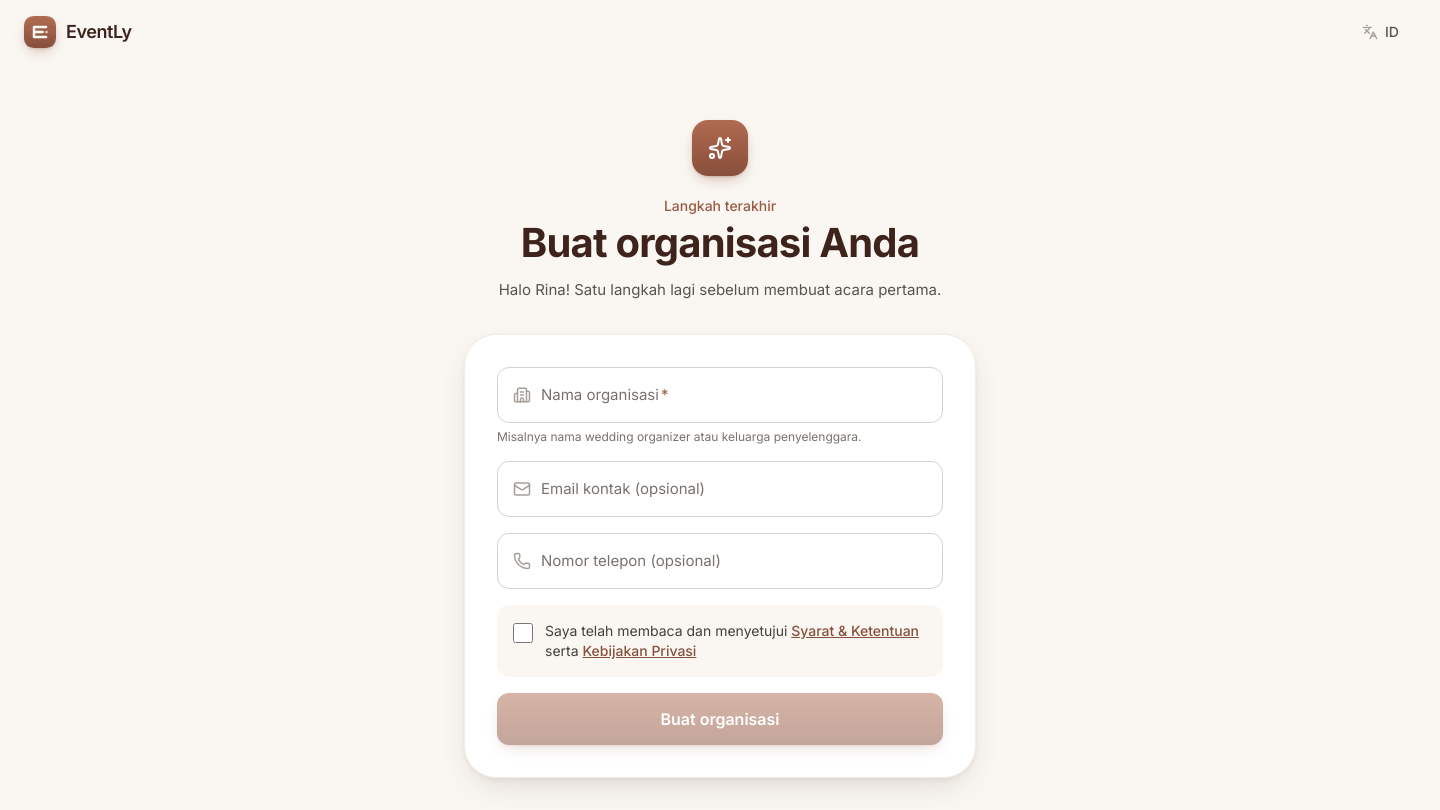
Test case: onboarding › requires accepting the terms, then creates the organization and opens the dashboard
The width and height of the screenshot is (1440, 810).
Type "Santoso WO" into the field labelled "Nama organisasi". click: (720, 395)
box: 497,367 -> 943,423
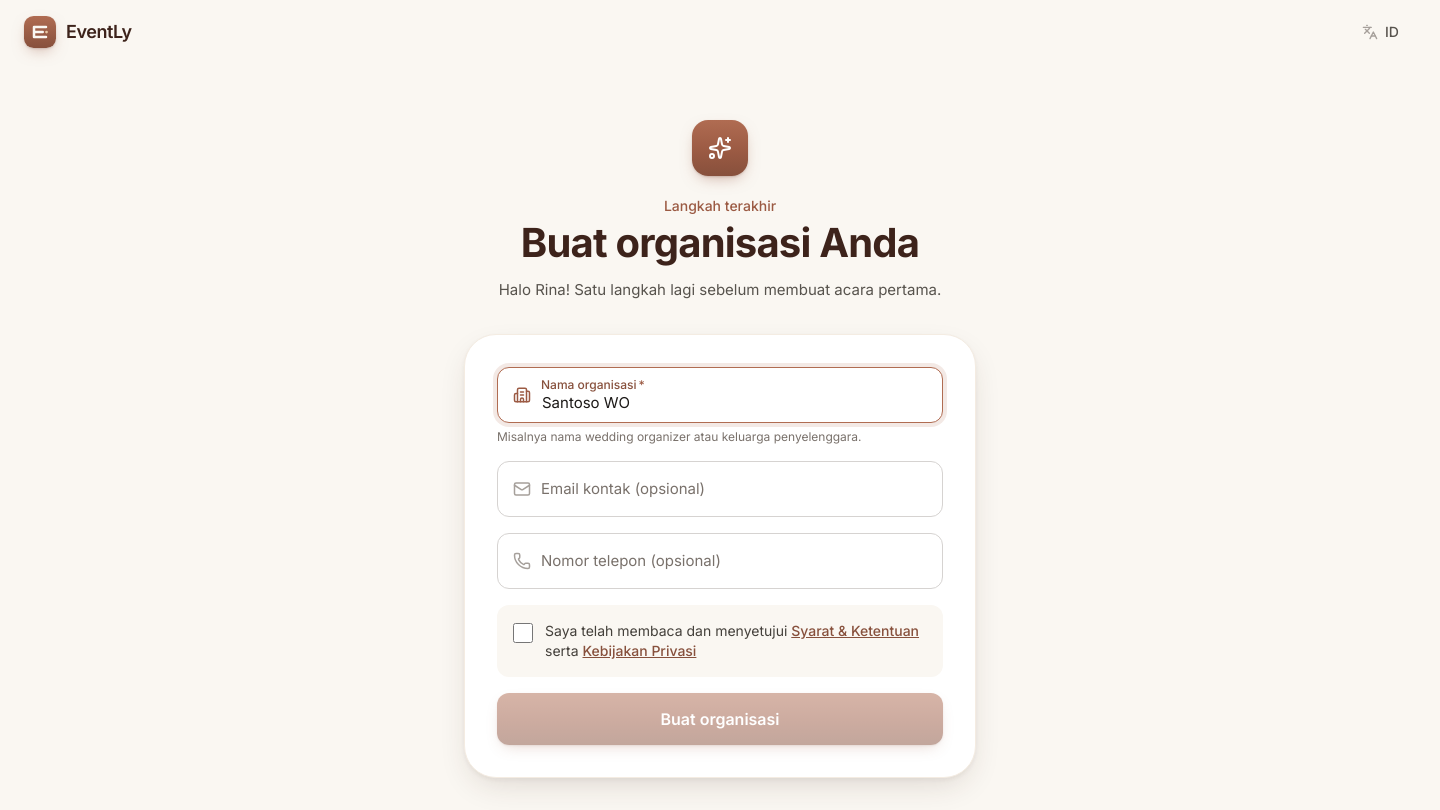
Expected: the button "Buat organisasi" is disabled, 497,693 -> 943,745
Click the checkbox. click: (523, 633)
box: 513,623 -> 533,643
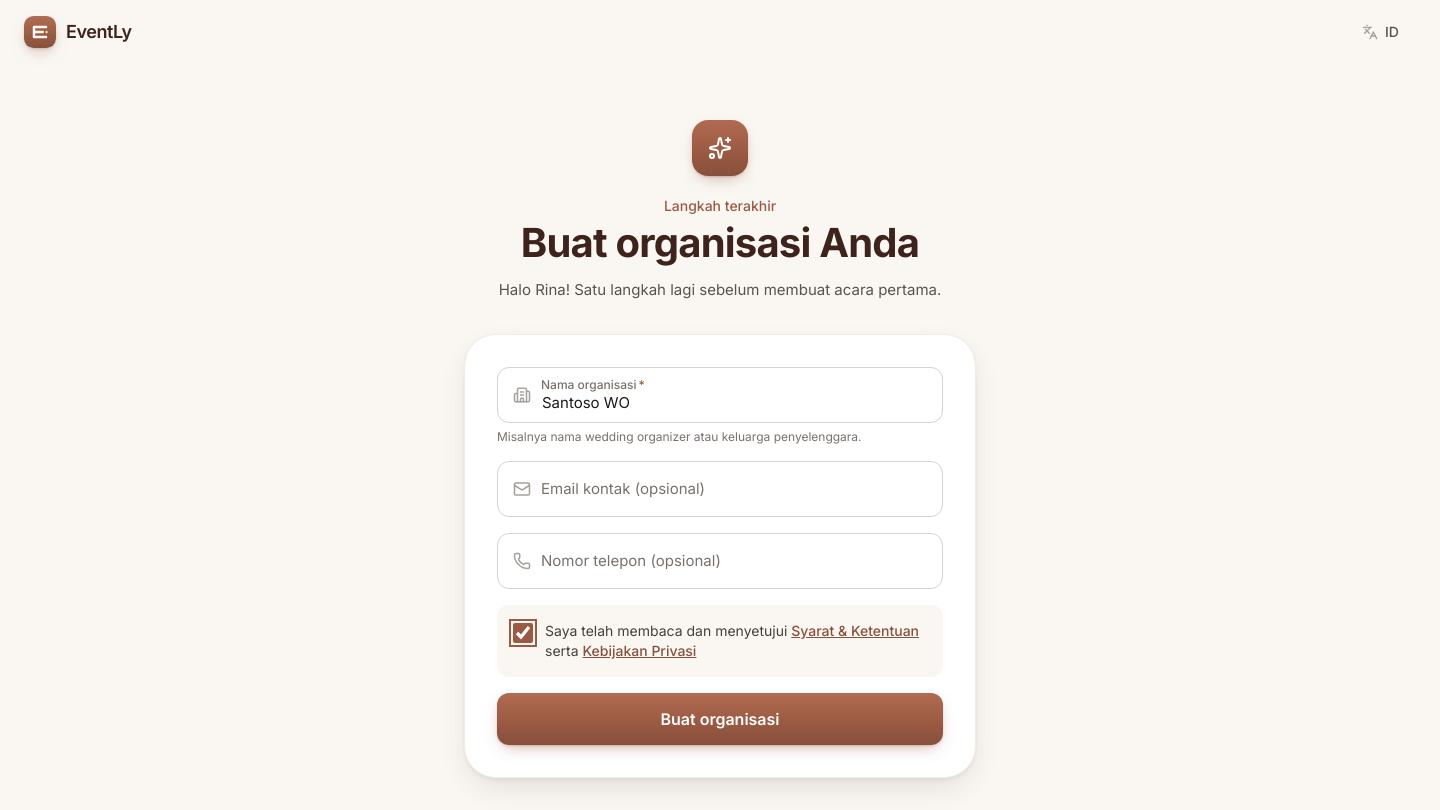
Click the button "Buat organisasi". click: (720, 719)
box: 497,693 -> 943,745
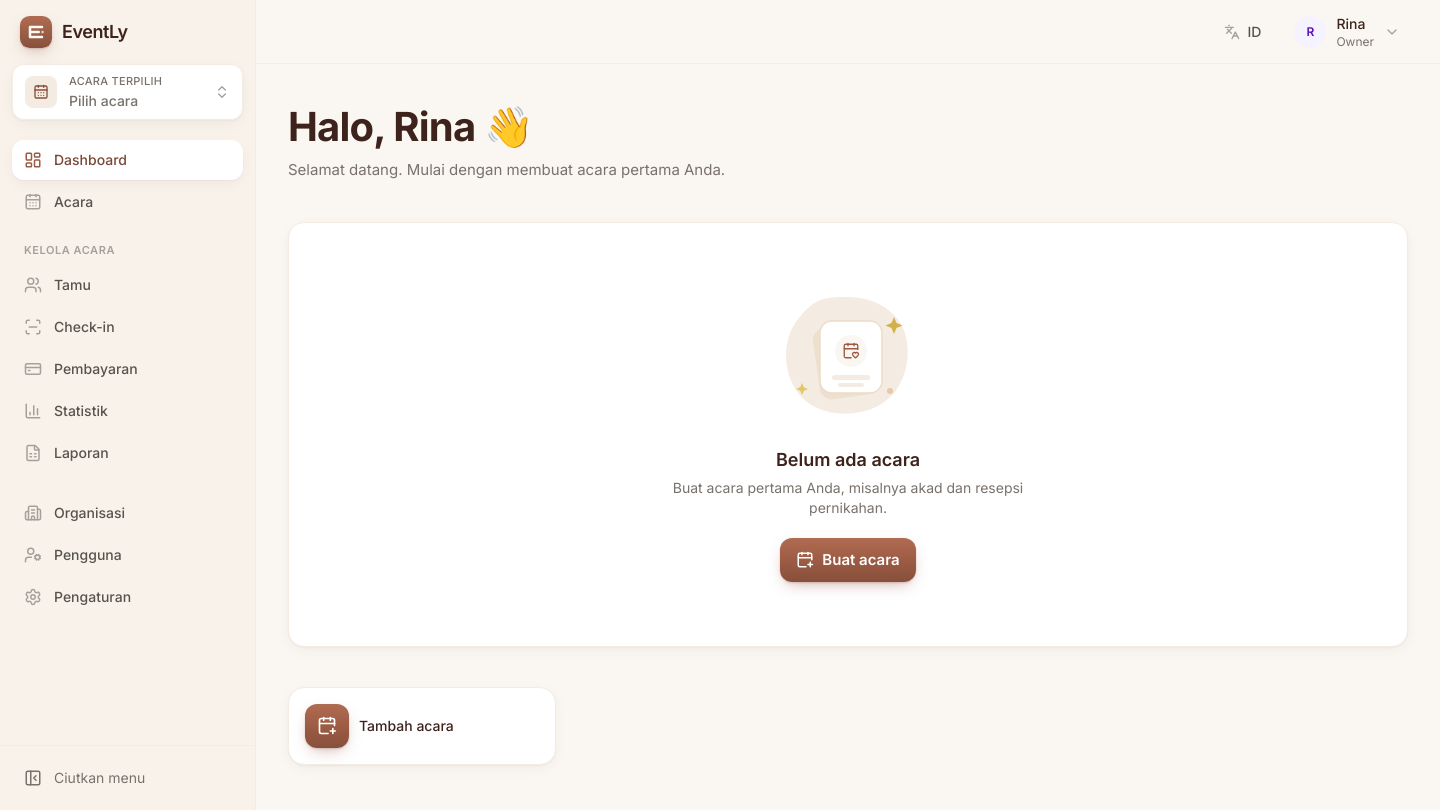
Result: the heading "Halo, Rina 👋" is shown at 288,102 -> 533,151
